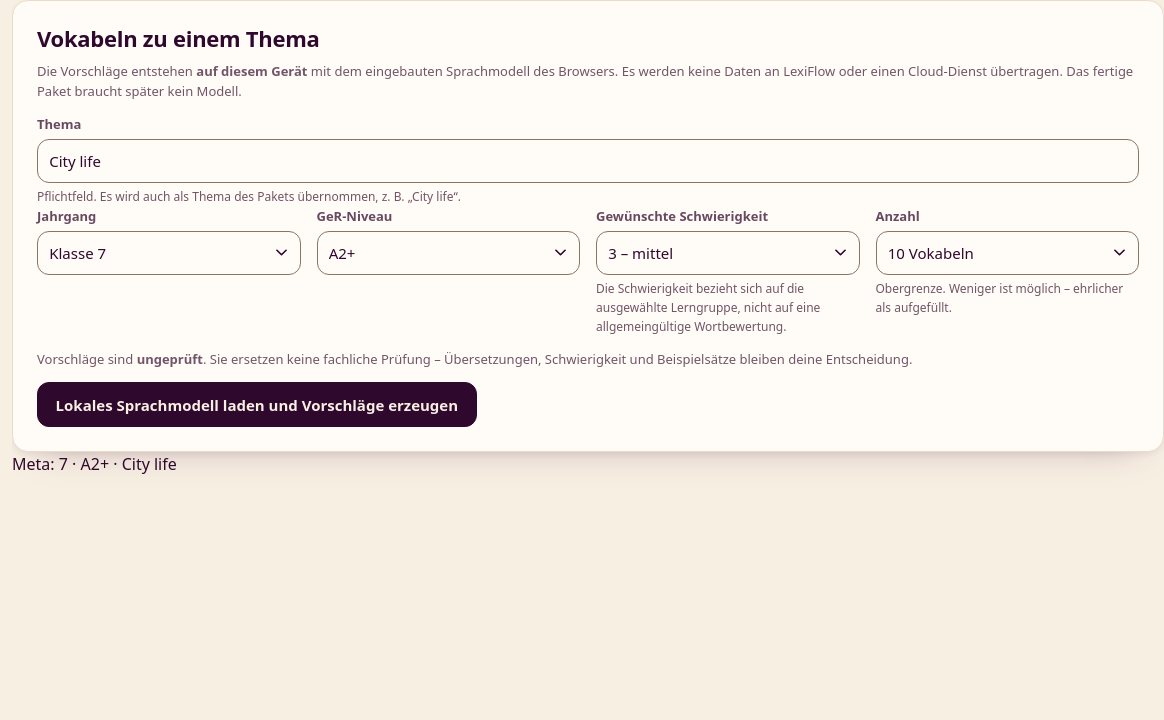
Vorschläge erzeugen › erklärt eine leere Antwort, statt eine leere Vorschau zu öffnen
What coordinates should you click on to do the following:
click the button "Lokales Sprachmodell laden und Vorschläge erzeugen"
I would click on:
 (257, 405)
Its box is [37,382,477,427].
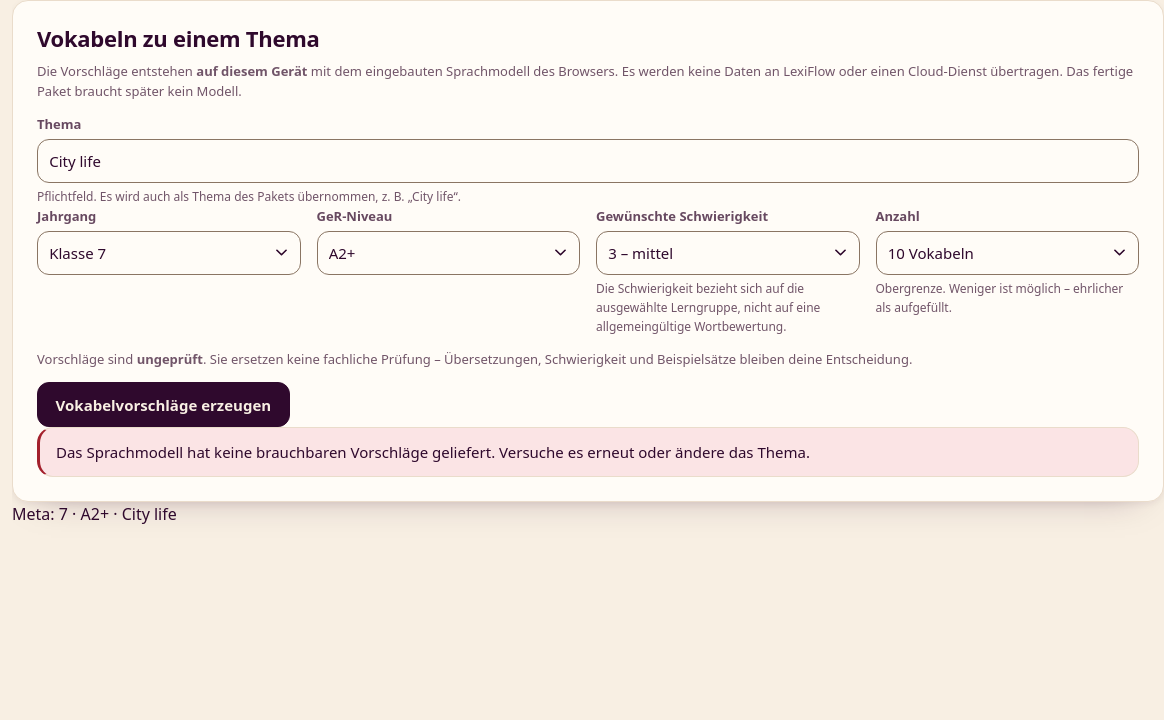
Now the message shows "keine brauchbaren Vorschläge", box [56,442,810,462]
